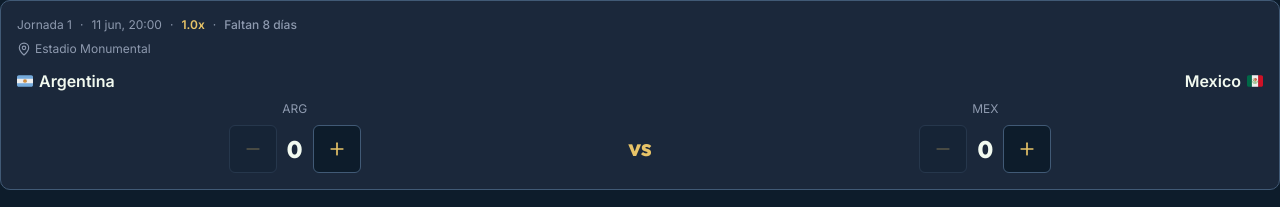
Test: MatchCard › trata una promesa rechazada como pendiente offline
Click the button named "Incrementar goles de Argentina" at (337, 149), box [313,125,361,173]
Wait 1500 ms
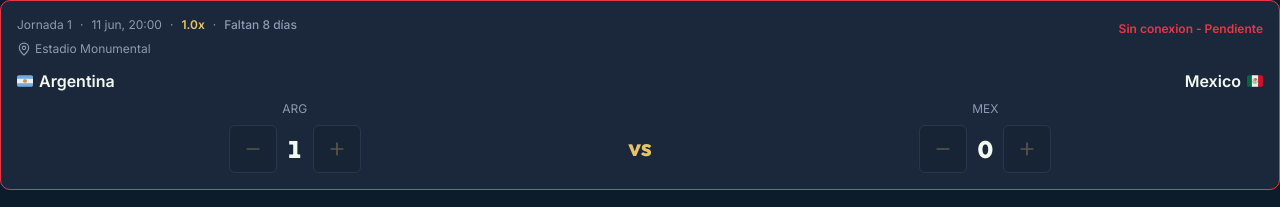
Expected: the text "Sin conexion - Pendiente" is shown, [1119,21,1263,37]
